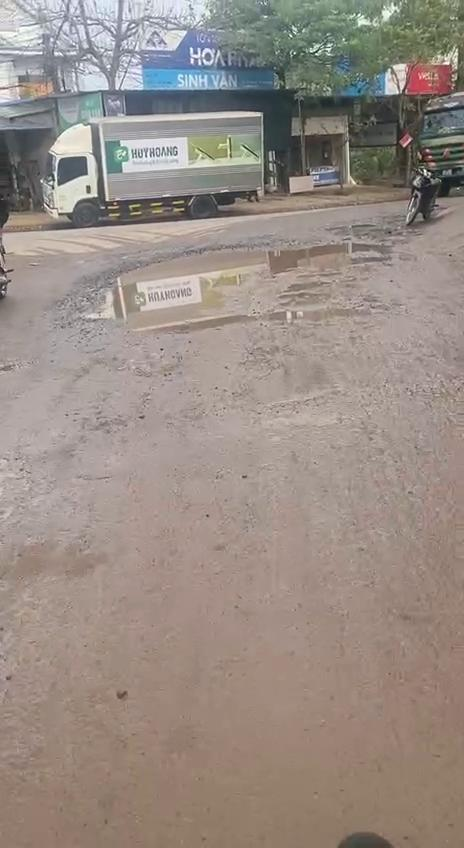pothole: (72, 240, 396, 330)
